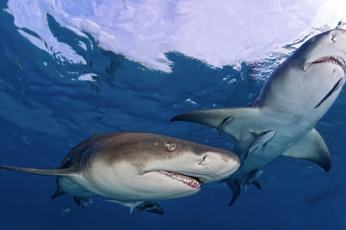Shark -Selachimorpha-: (170, 28, 346, 205), (0, 129, 238, 213)
